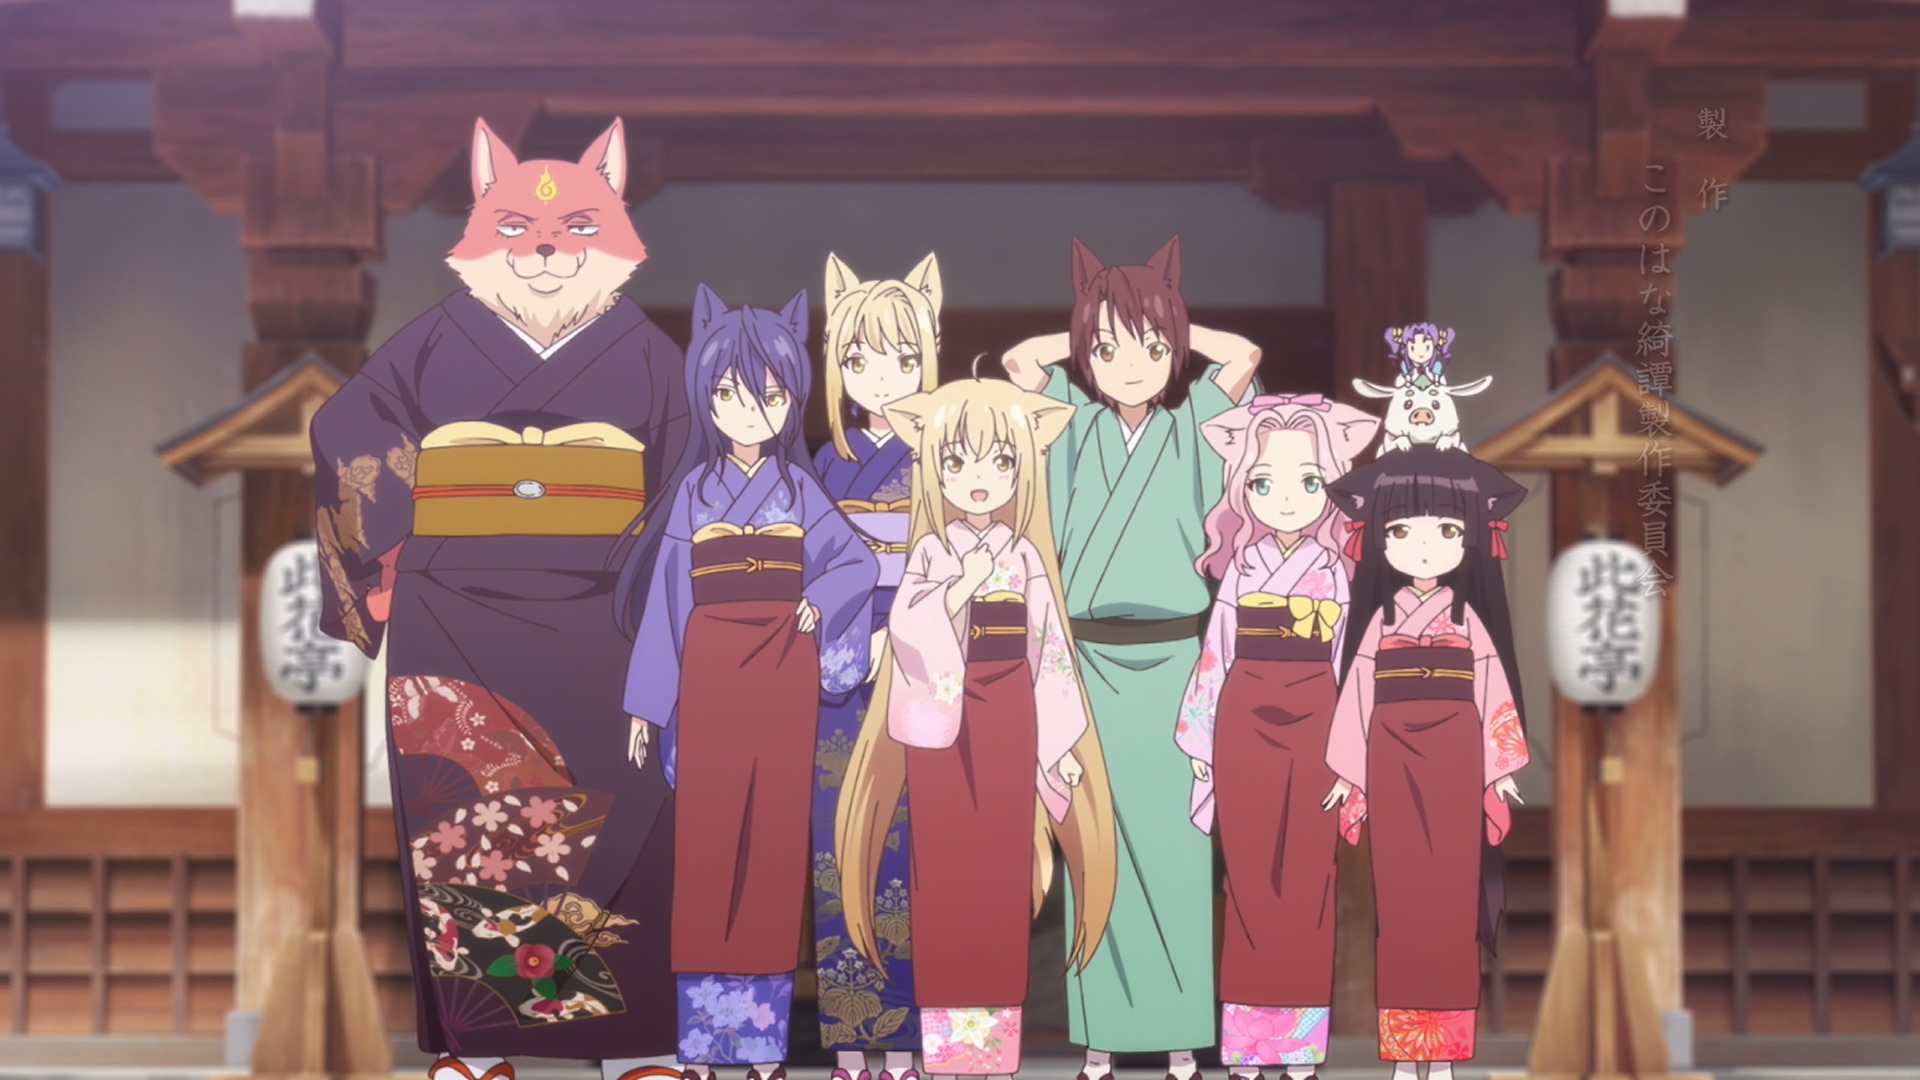枣: (1002, 231, 1261, 1080)
柚: (833, 353, 1118, 1080)
桐: (808, 253, 945, 1080)
椿: (311, 115, 690, 1080)
樱: (1323, 443, 1531, 1080)
瓜之介: (1350, 376, 1494, 454)
皋: (607, 280, 884, 1080)
莲: (1174, 394, 1385, 1080)
阿菊: (1382, 320, 1458, 386)
